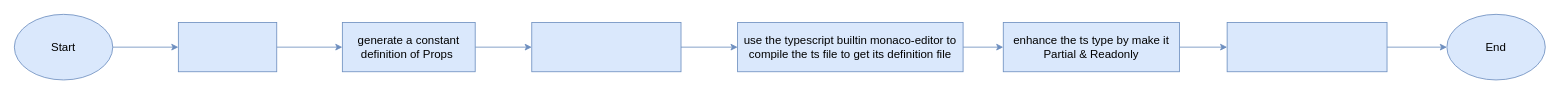
This 1560x94 diagram has some shape labels left out. Here are the shapes that lost their labels. From the top down, the box of each, then its label:
(178, 22, 277, 72): Read Schema
(531, 22, 681, 72): create a typescript file 'Props.ts' in monaco-editor
(1226, 22, 1387, 72): use definition as JS and TS library (Props.d.ts)
